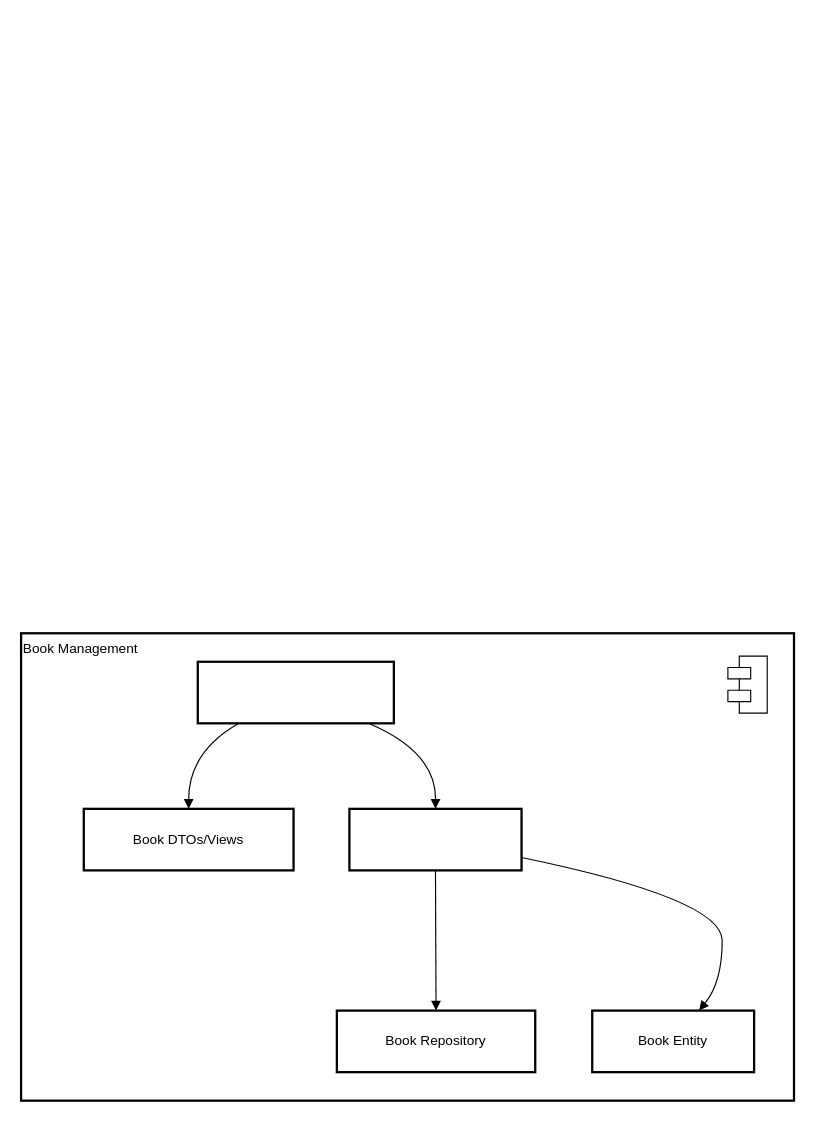
Image size: 838x1122. Some labels were removed from this diagram. The box of each missing label's shape, as (x1, y1, x2, y2) in pixels:
Book Controller: (196, 660, 394, 724)
Book Service: (348, 807, 522, 871)
